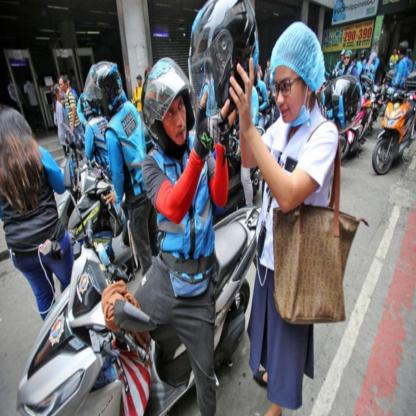helmet: (188, 0, 260, 113), (141, 56, 196, 153), (84, 60, 123, 119)
nohelmet: (268, 20, 327, 124), (0, 107, 38, 182), (58, 73, 71, 94)
